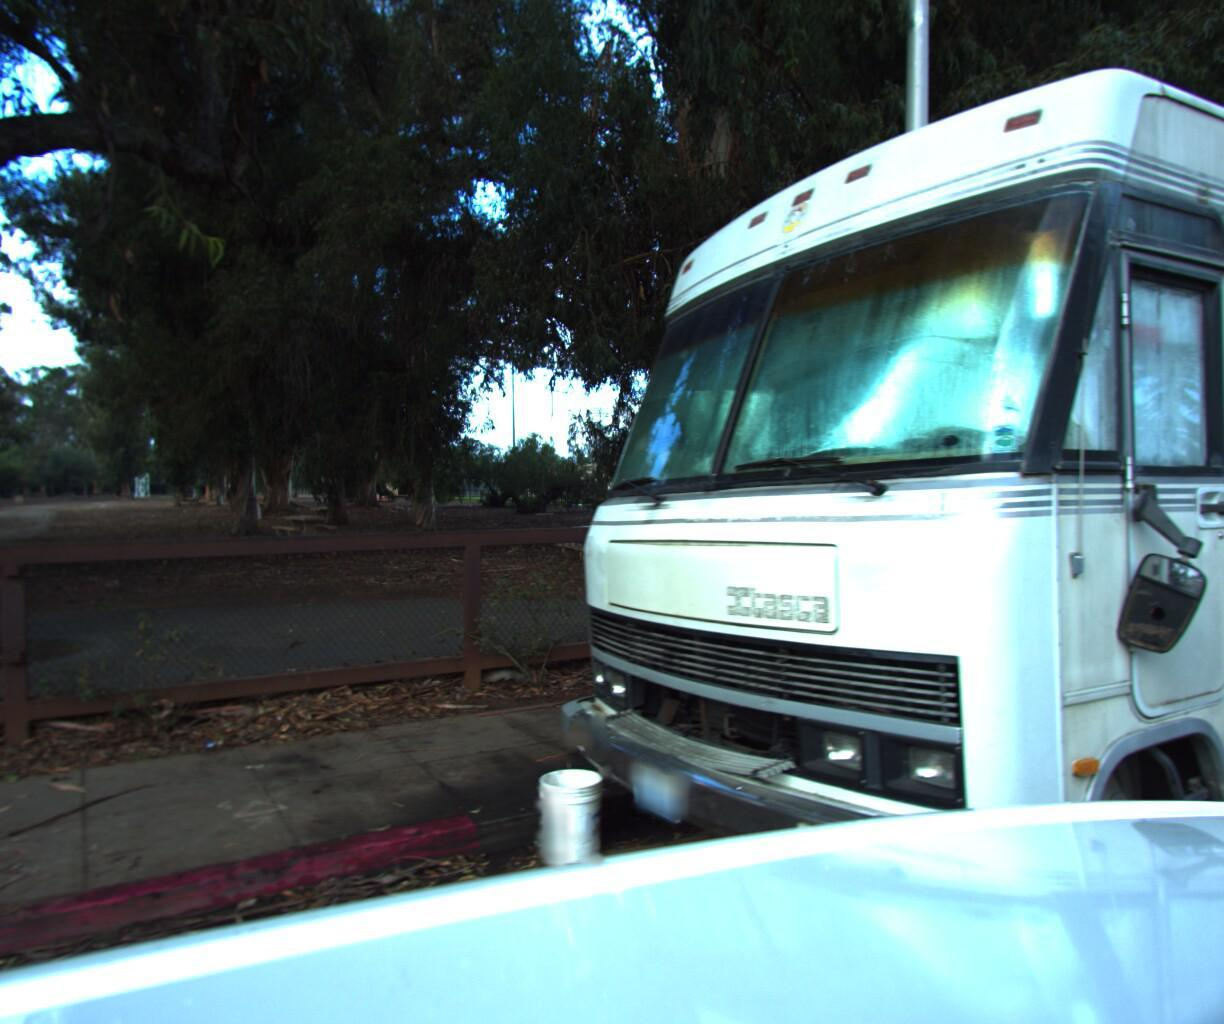other_vehicle: (486, 0, 1224, 1024)
